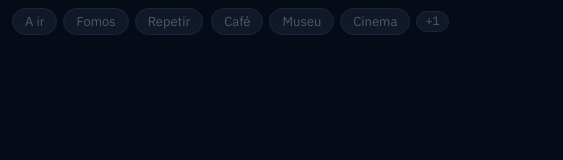
it: FilterBar › truncates category chips and expands to show all when more than 3
Expected: the text "Restaurante" is not shown
Click the button "+1".
click(433, 22)  # box left=416, top=11, right=449, bottom=32
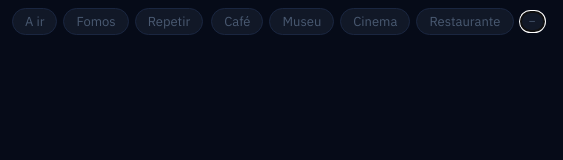
Expected: the button "Restaurante" is shown, left=416, top=8, right=514, bottom=35
